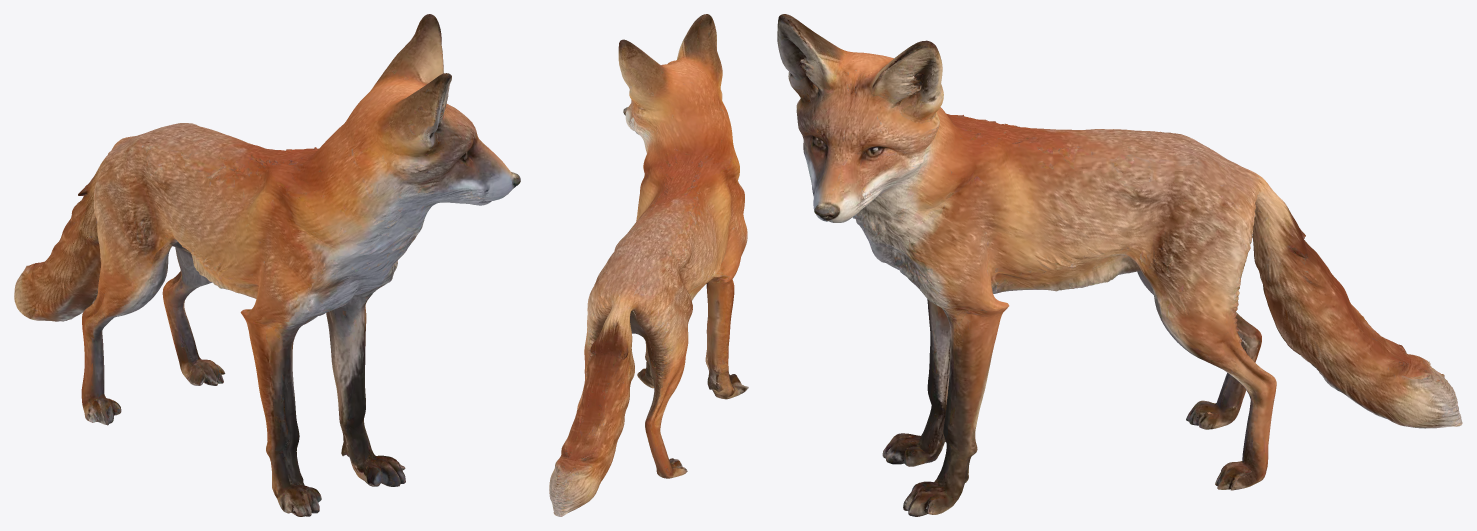
Rendered from estacion5.glb.
3 renders of one model, left to right at view 1: azimuth 30°, elevation 25°; view 2: azimuth 150°, elevation 25°; view 3: azimuth 270°, elevation 25°, orthographic. The views are drawn at different scales.
Visible parts, largest first — view 1: world; view 2: world; view 3: world.
Boxes of the visible parts, x1=… form: world: x1=14, y1=14, x2=520, y2=516; world: x1=549, y1=14, x2=748, y2=516; world: x1=777, y1=14, x2=1462, y2=516.
Bounding box in the file's own units: 0.3738 × 0.6297 × 0.7929.
1 material, 1 textured.
